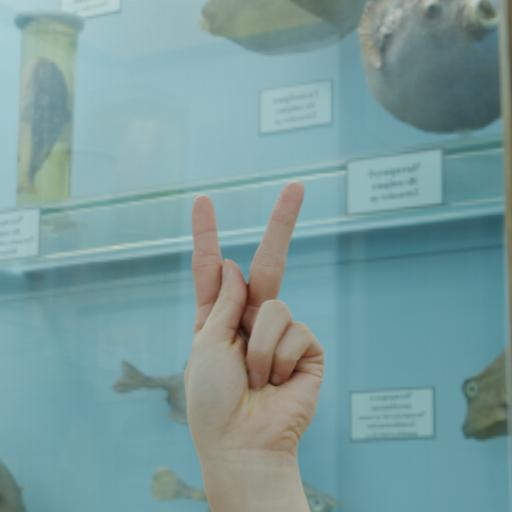K: (178, 178, 328, 452)
